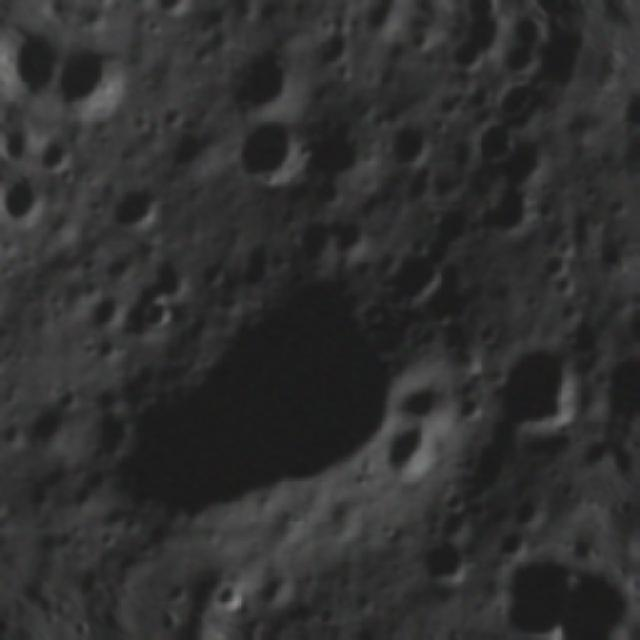crater: (86, 224, 457, 578), (485, 325, 604, 460), (222, 98, 328, 211), (488, 538, 584, 640), (51, 34, 147, 131), (214, 40, 301, 126), (372, 233, 456, 318), (382, 422, 453, 498), (394, 366, 466, 436), (104, 174, 170, 248), (480, 182, 551, 250), (382, 112, 444, 183), (607, 89, 640, 212), (163, 120, 223, 186), (415, 539, 482, 598), (494, 133, 558, 193), (481, 38, 545, 97), (492, 70, 551, 133), (328, 208, 387, 268), (438, 28, 498, 82), (315, 20, 370, 78), (34, 132, 88, 191), (85, 286, 141, 342), (294, 217, 348, 274), (471, 119, 524, 172), (27, 400, 78, 454), (594, 225, 640, 282), (258, 564, 308, 616), (434, 202, 486, 248), (204, 576, 253, 621), (491, 520, 535, 568), (49, 380, 97, 422), (363, 3, 408, 42), (148, 0, 210, 28), (356, 297, 399, 334), (141, 297, 176, 338), (615, 86, 640, 140), (348, 589, 379, 620), (168, 582, 198, 610), (0, 489, 15, 527), (462, 631, 501, 640), (400, 635, 445, 640)
